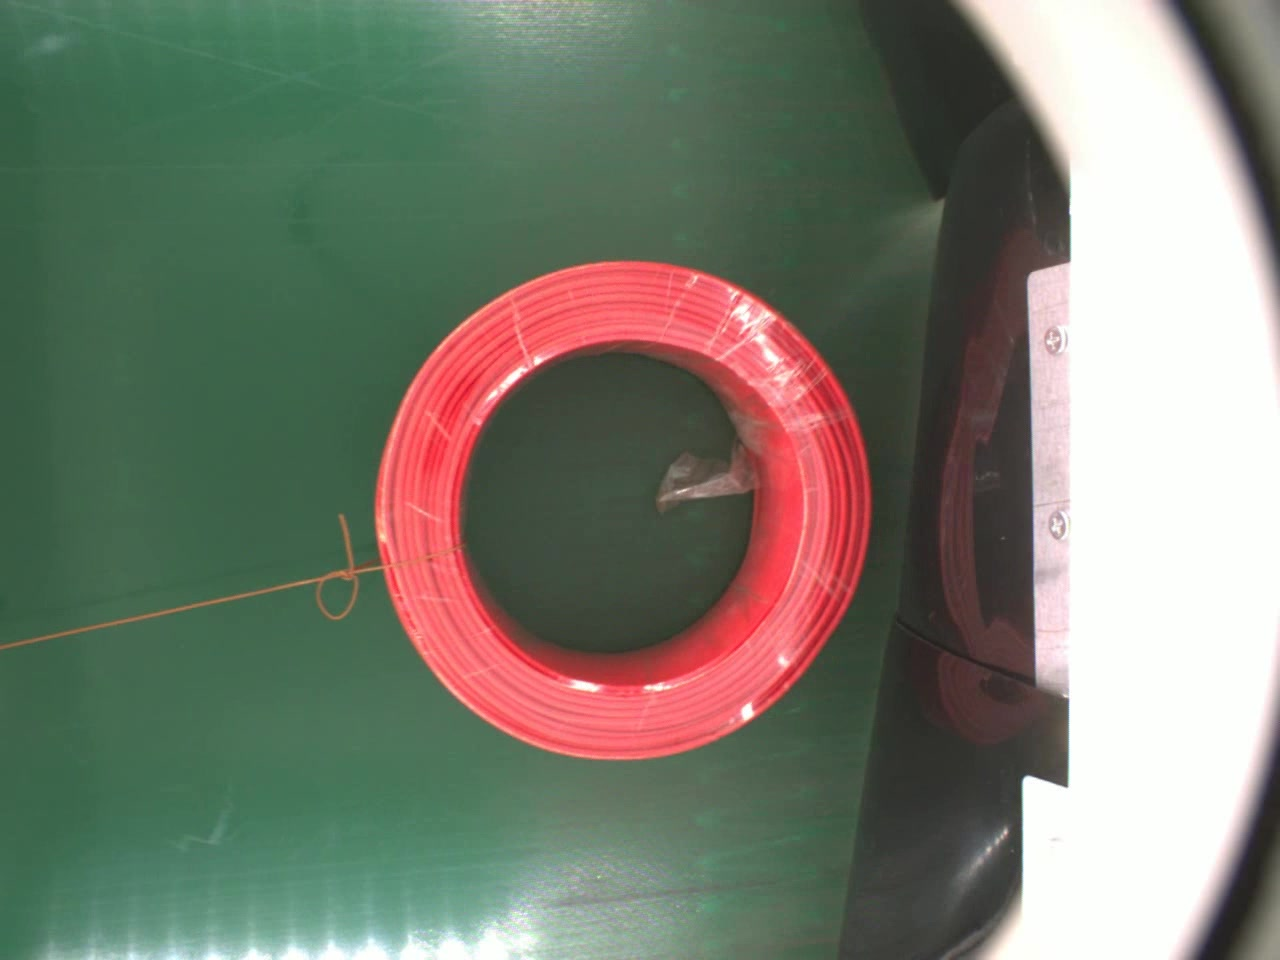red: (370, 254, 871, 761)
